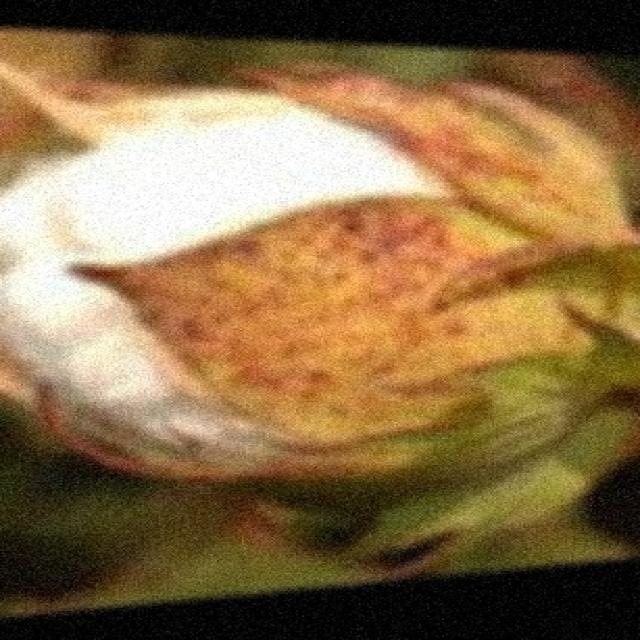Split Cotton Boll: (10, 71, 609, 481)
